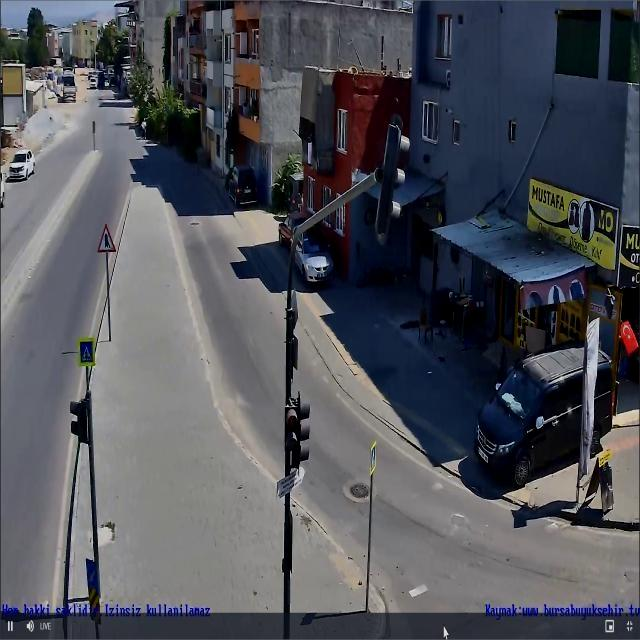Car: (290, 227, 337, 282), (8, 149, 38, 182)
Truck: (54, 76, 77, 102)
Van: (466, 342, 625, 490)
